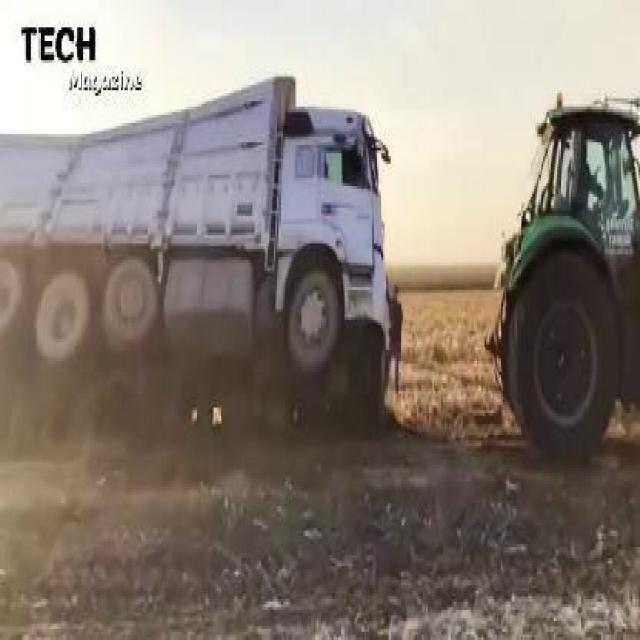accident: (2, 74, 389, 427)
